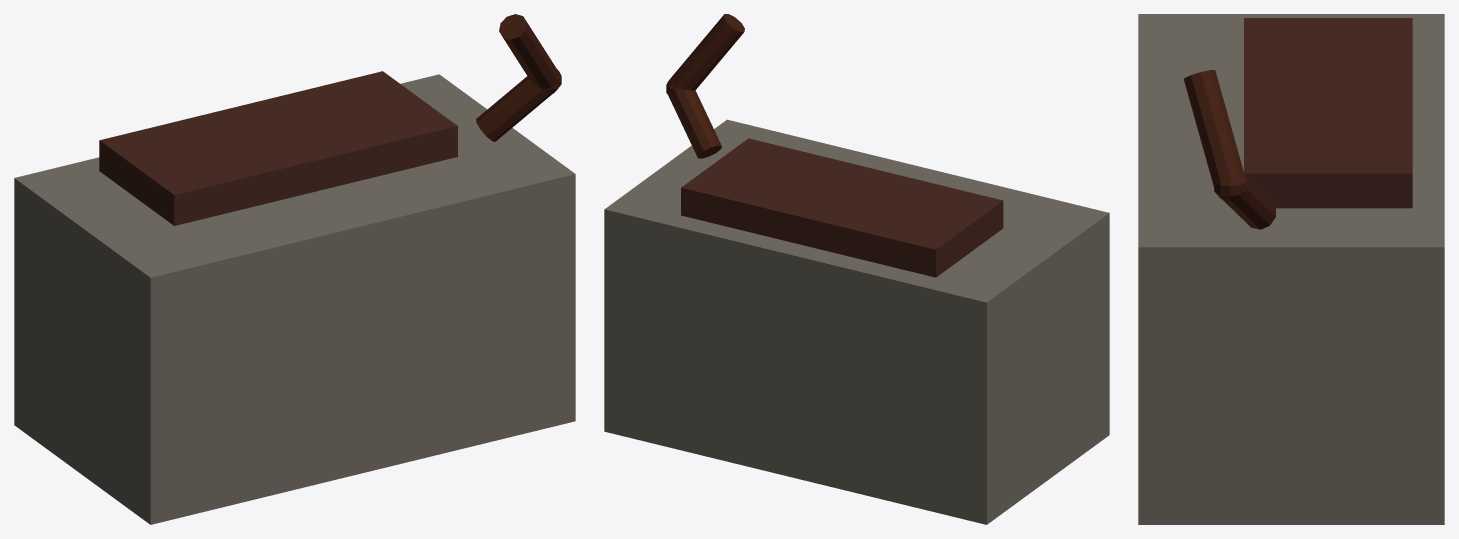
Rendered from GalakasMidCity_INT_KitchenHearth_01.obj.
3 views of the same model, side by side, from view 1: azimuth 30°, elevation 25°; view 2: azimuth 150°, elevation 25°; view 3: azimuth 270°, elevation 25° (orthographic). The views are drawn at different scales.
Parts seen in each view (by area): view 1: hearth_stone, hearth_firebox, curved_service_pipe_seg0, curved_service_pipe_seg1; view 2: hearth_stone, hearth_firebox, curved_service_pipe_seg1, curved_service_pipe_seg0; view 3: hearth_stone, hearth_firebox, curved_service_pipe_seg1, curved_service_pipe_seg0, curved_service_pipe_joint1.
Boxes of the visible parts, <box> form: hearth_stone: <box>14,74,575,524</box>; hearth_firebox: <box>99,71,457,225</box>; curved_service_pipe_seg0: <box>476,76,555,141</box>; curved_service_pipe_seg1: <box>503,22,559,89</box>; hearth_stone: <box>604,119,1109,524</box>; hearth_firebox: <box>681,138,1003,277</box>; curved_service_pipe_seg1: <box>669,14,743,90</box>; curved_service_pipe_seg0: <box>668,88,721,157</box>; hearth_stone: <box>1138,14,1444,524</box>; hearth_firebox: <box>1244,18,1412,208</box>; curved_service_pipe_seg1: <box>1184,70,1245,187</box>; curved_service_pipe_seg0: <box>1223,176,1275,229</box>; curved_service_pipe_joint1: <box>1214,173,1246,201</box>.
Size of the model in its own units: 1.9 by 1.58 by 1.
